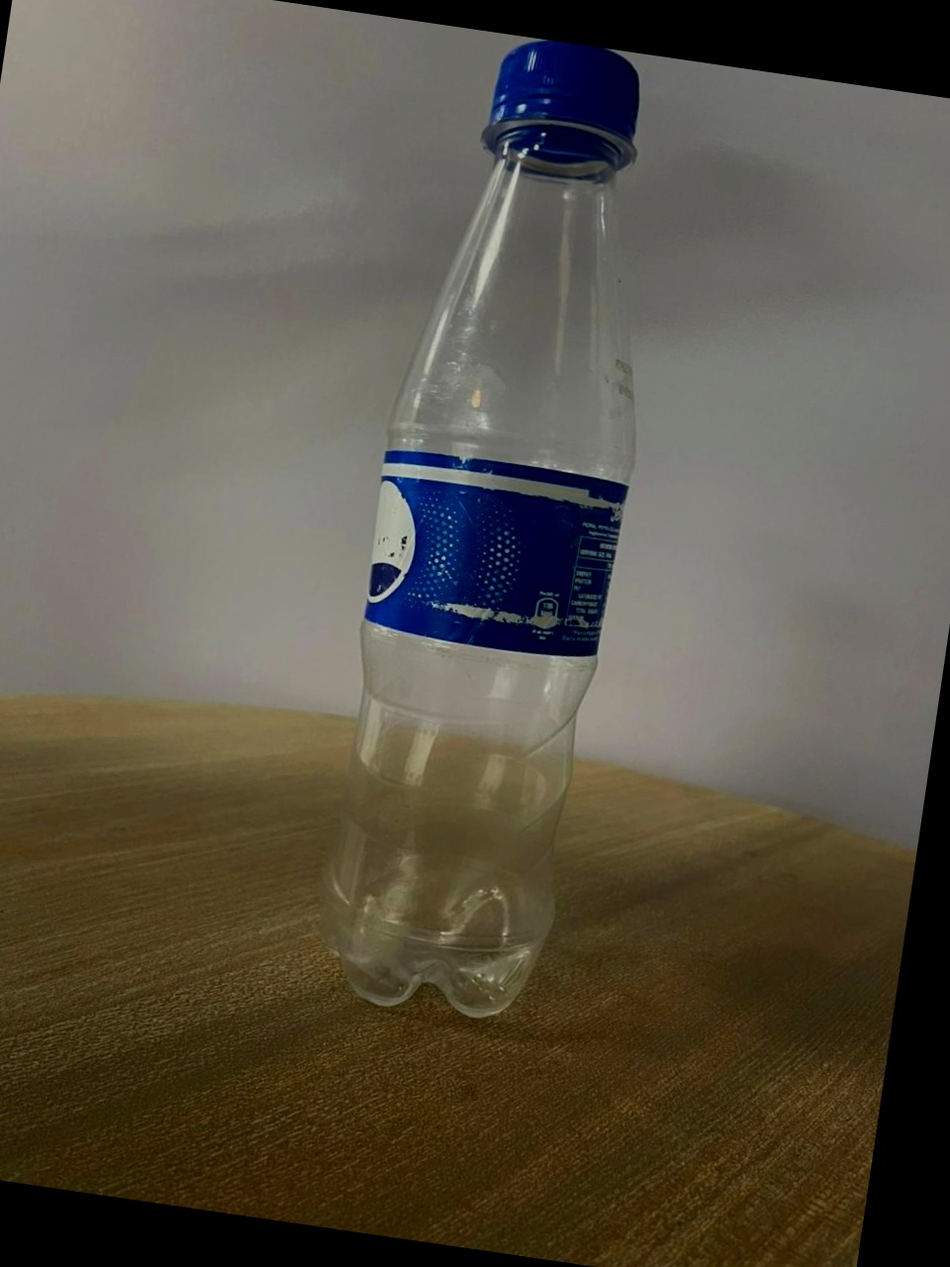Pepsi Bottle: (288, 24, 718, 1056), (289, 24, 714, 1052)
